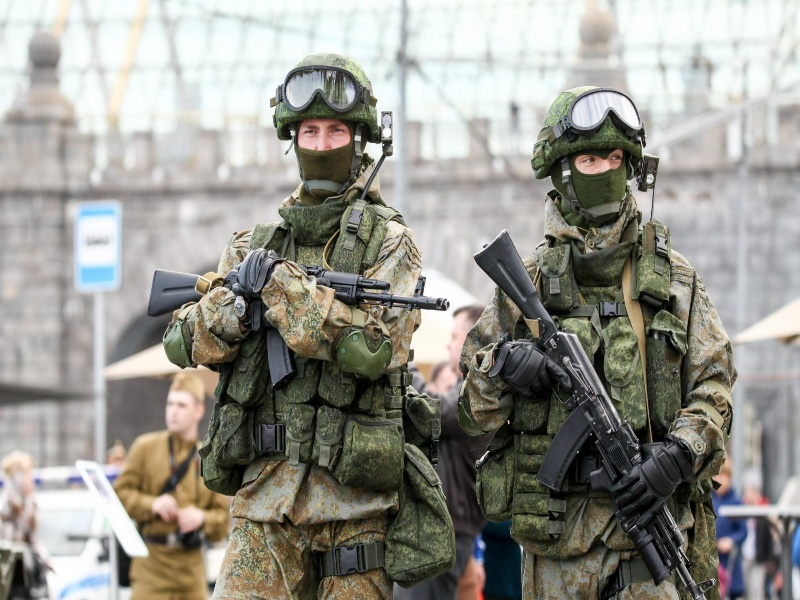person: (162, 53, 426, 600), (458, 86, 738, 600), (114, 370, 229, 600), (405, 305, 485, 600)
weapon: (472, 230, 716, 600), (147, 262, 450, 392)
